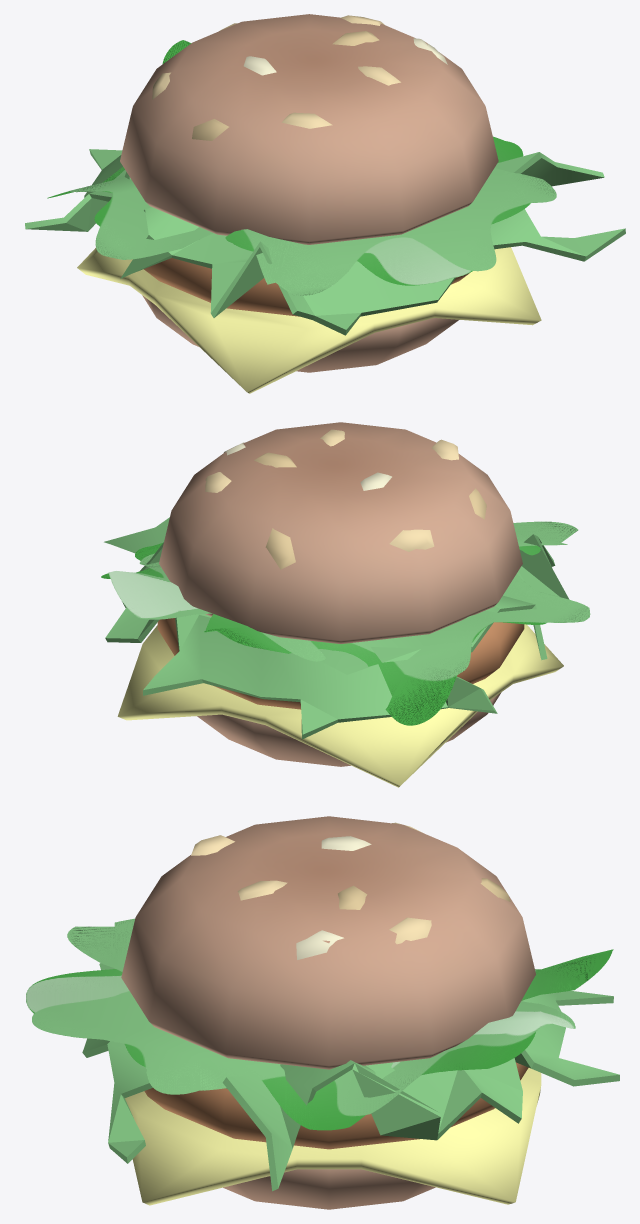
Rendered from hamburguer.fbx.
3 views of the same model, one above another, from view 1: azimuth 30°, elevation 25°; view 2: azimuth 150°, elevation 25°; view 3: azimuth 270°, elevation 25° (orthographic). The views are drawn at different scales.
Parts seen in each view (by area): view 1: top bread, lettuce, cheese, Plane, bottom bread, meat; view 2: top bread, Plane, lettuce, cheese, bottom bread, meat; view 3: top bread, lettuce, cheese, Plane, meat, bottom bread.
Boxes of the visible parts, box(x1,y1,x2,y2) form: top bread: box(120, 14, 498, 244); lettuce: box(47, 40, 556, 295); cheese: box(77, 247, 541, 393); Plane: box(25, 149, 625, 335); bottom bread: box(142, 295, 459, 372); meat: box(144, 258, 469, 316); top bread: box(159, 422, 522, 643); Plane: box(104, 517, 569, 739); lettuce: box(101, 521, 590, 725); cheese: box(117, 624, 563, 787); bottom bread: box(197, 692, 501, 766); meat: box(157, 618, 524, 709); top bread: box(121, 816, 535, 1069); lettuce: box(26, 918, 613, 1130); cheese: box(125, 1068, 541, 1205); Plane: box(82, 963, 619, 1191); meat: box(144, 1062, 528, 1149); bottom bread: box(223, 1169, 435, 1209).
Bounding box in the file's own units: 36.41 × 18.38 × 34.53.
